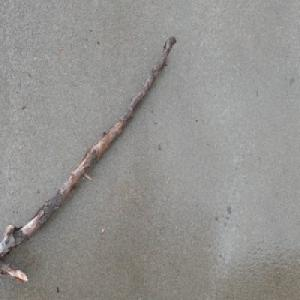Wood: (0, 34, 178, 283)
